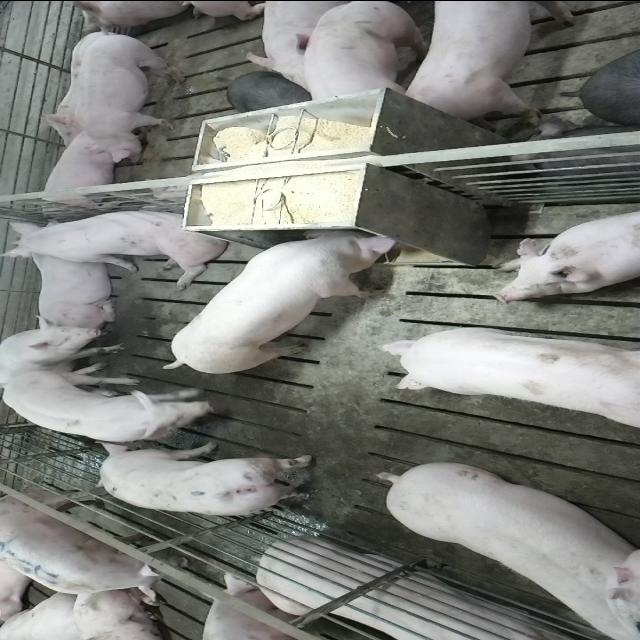Feeding: (162, 219, 408, 369)
Sitting: (5, 204, 230, 286), (2, 320, 132, 394)
Standing: (373, 456, 635, 635), (386, 322, 640, 440), (0, 491, 196, 608), (402, 3, 578, 122), (93, 439, 319, 516), (79, 27, 189, 162), (302, 1, 428, 102)
Sternal_lying: (225, 540, 587, 640), (491, 206, 640, 303), (28, 241, 122, 327), (35, 132, 131, 211)
